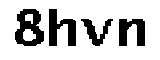8: (9, 4, 46, 49)
h: (46, 4, 81, 55)
n: (117, 15, 150, 49)
v: (81, 14, 114, 48)
